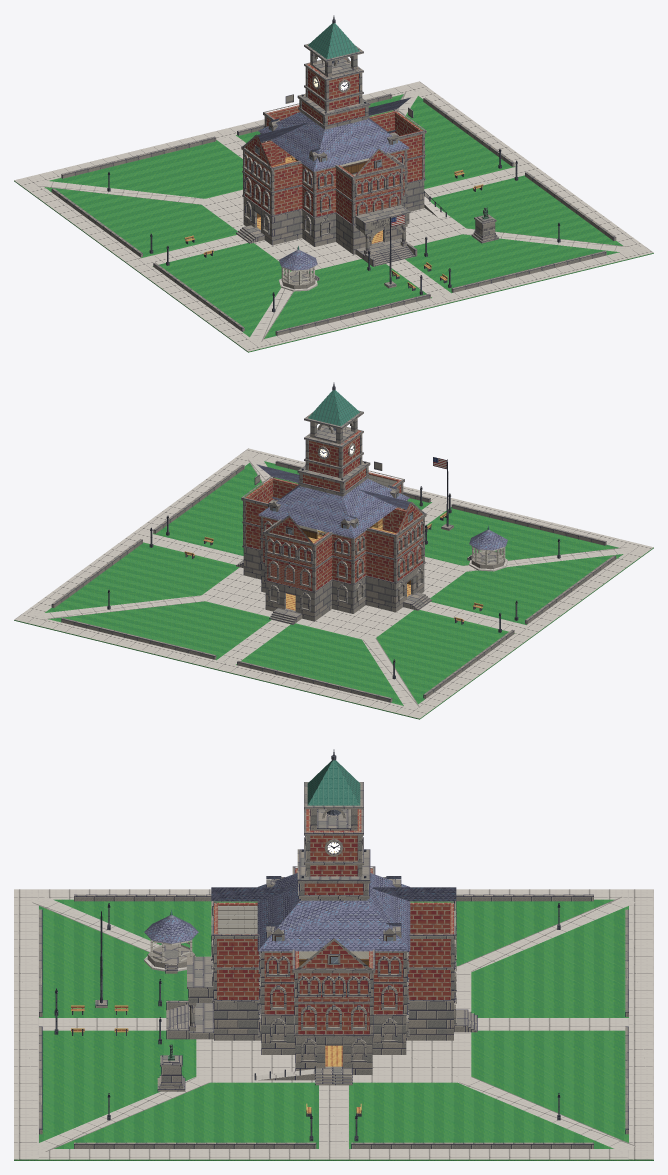
File: courthouse-2008.glb
3 views of the same model, one above another, from view 1: azimuth 30°, elevation 25°; view 2: azimuth 150°, elevation 25°; view 3: azimuth 270°, elevation 25° (orthographic). The views are drawn at different scales.
Parts seen in each view (by area): view 1: lot_ground, structure, bandstand, memorial; view 2: lot_ground, structure, bandstand; view 3: lot_ground, structure, bandstand, memorial.
Part boxes in pixels (<box>): lot_ground: <box>14,81,653,352</box>; structure: <box>236,15,431,266</box>; bandstand: <box>279,246,319,291</box>; memorial: <box>471,207,498,243</box>; lot_ground: <box>14,448,653,719</box>; structure: <box>236,382,431,624</box>; bandstand: <box>467,525,507,571</box>; lot_ground: <box>14,889,653,1160</box>; structure: <box>166,749,477,1085</box>; bandstand: <box>144,909,198,973</box>; memorial: <box>157,1044,185,1091</box>.
Size of what is drawn, in the model's own units: 79.46 by 38.02 by 79.46.
16 materials, 16 textured.
